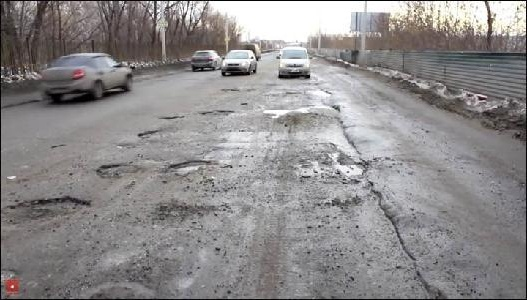pothole: (0, 192, 91, 219), (154, 201, 199, 223), (166, 156, 214, 176), (92, 158, 129, 181), (199, 106, 237, 120), (136, 126, 159, 140), (159, 112, 187, 120)
